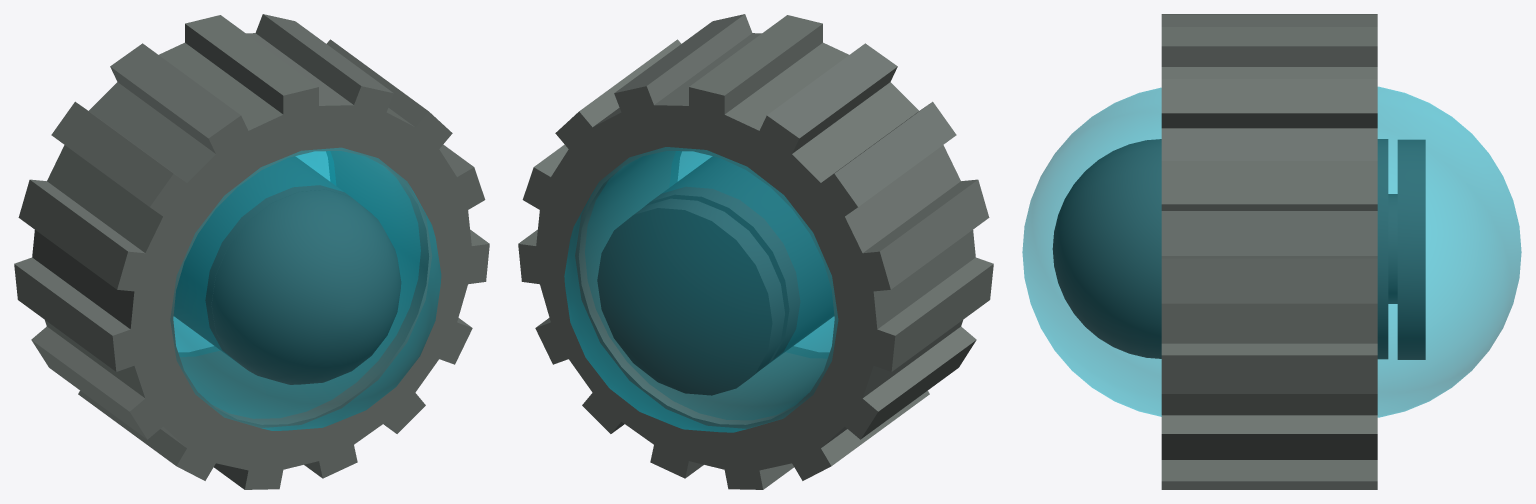
File: prop_ammopack_austin.fbx
The picture shows the model from 3 angles, left to right: view 1: azimuth 30°, elevation 25°; view 2: azimuth 150°, elevation 25°; view 3: azimuth 270°, elevation 25°; orthographic projection. The views are drawn at different scales.
Visible parts, largest first — view 1: prop_ammopack_austin; view 2: prop_ammopack_austin; view 3: prop_ammopack_austin.
Boxes of the visible parts, x1,y1,x2,y2 form: prop_ammopack_austin: (14, 14, 489, 489); prop_ammopack_austin: (518, 14, 993, 489); prop_ammopack_austin: (1022, 14, 1521, 489).
Bounding box in the file's own units: 8.69 × 8.64 × 9.08.
